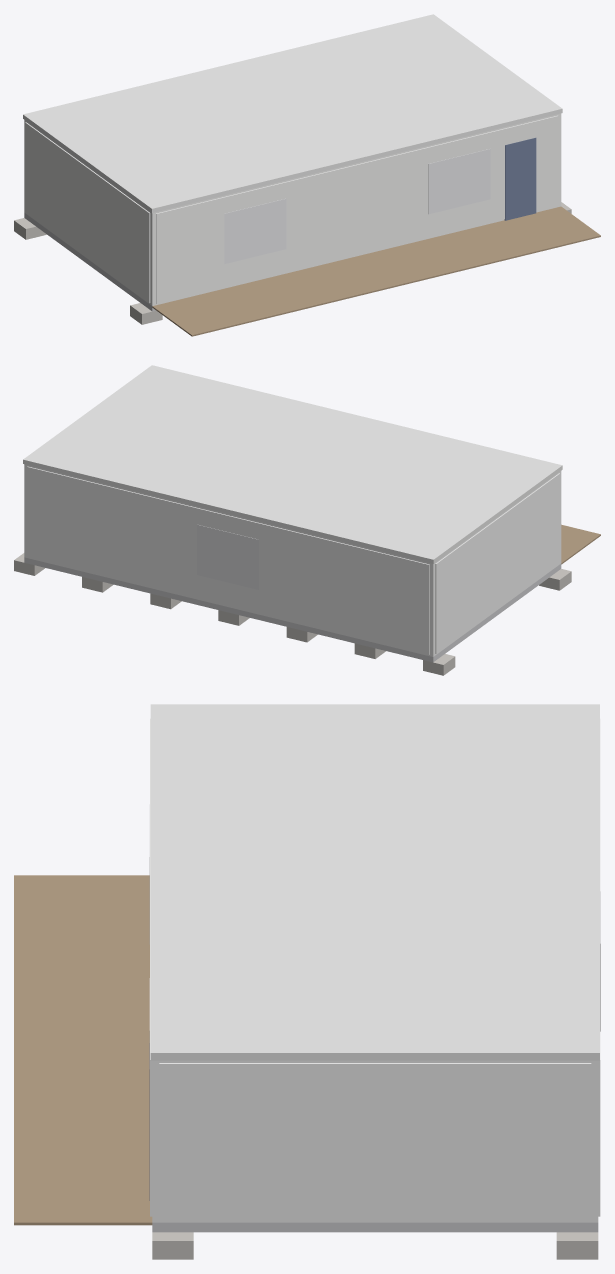
File: Studio-40-Premium+TerraceDeck-LOD0.glb
3 renders of one model, top to bottom at view 1: azimuth 30°, elevation 25°; view 2: azimuth 150°, elevation 25°; view 3: azimuth 270°, elevation 25°, orthographic. The views are drawn at different scales.
Parts seen in each view (by area): view 1: RoofMain, ExteriorPanelsPremium, TerraceDeck, WindowsLargeUpgrade, ExteriorShell, EntryDoor, FoundationBlocks, BaseFrame; view 2: RoofMain, ExteriorPanelsPremium, BaseFrame, WindowsLargeUpgrade, ExteriorShell, FoundationBlocks, TerraceDeck; view 3: RoofMain, ExteriorPanelsPremium, TerraceDeck, ExteriorShell, BaseFrame, FoundationBlocks.
Boxes of the visible parts, left/top/right/bottom form: RoofMain: left=23, top=14, right=562, bottom=212; ExteriorPanelsPremium: left=25, top=115, right=558, bottom=303; TerraceDeck: left=152, top=206, right=600, bottom=336; WindowsLargeUpgrade: left=224, top=149, right=490, bottom=263; ExteriorShell: left=24, top=113, right=561, bottom=305; EntryDoor: left=504, top=137, right=536, bottom=220; FoundationBlocks: left=14, top=202, right=571, bottom=324; BaseFrame: left=24, top=213, right=155, bottom=311; RoofMain: left=23, top=365, right=562, bottom=563; ExteriorPanelsPremium: left=27, top=466, right=560, bottom=654; BaseFrame: left=24, top=557, right=561, bottom=662; WindowsLargeUpgrade: left=197, top=524, right=258, bottom=589; ExteriorShell: left=24, top=464, right=561, bottom=656; FoundationBlocks: left=14, top=553, right=571, bottom=675; TerraceDeck: left=561, top=524, right=600, bottom=564; RoofMain: left=150, top=704, right=599, bottom=1060; ExteriorPanelsPremium: left=150, top=718, right=600, bottom=1220; TerraceDeck: left=14, top=875, right=152, bottom=1225; ExteriorShell: left=152, top=1060, right=598, bottom=1222; BaseFrame: left=152, top=1222, right=598, bottom=1232; FoundationBlocks: left=152, top=1232, right=598, bottom=1259.
Size of the model in its own units: 12.49 by 3.17 by 8.49.
